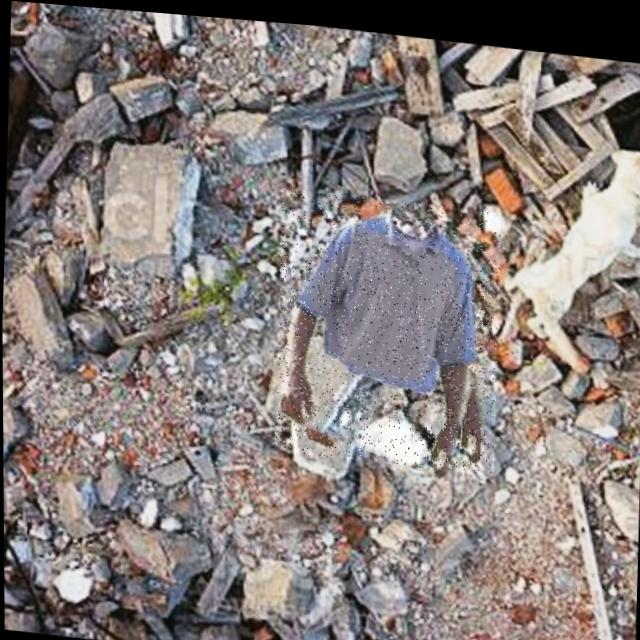Person in Rubble: (272, 182, 502, 468)
